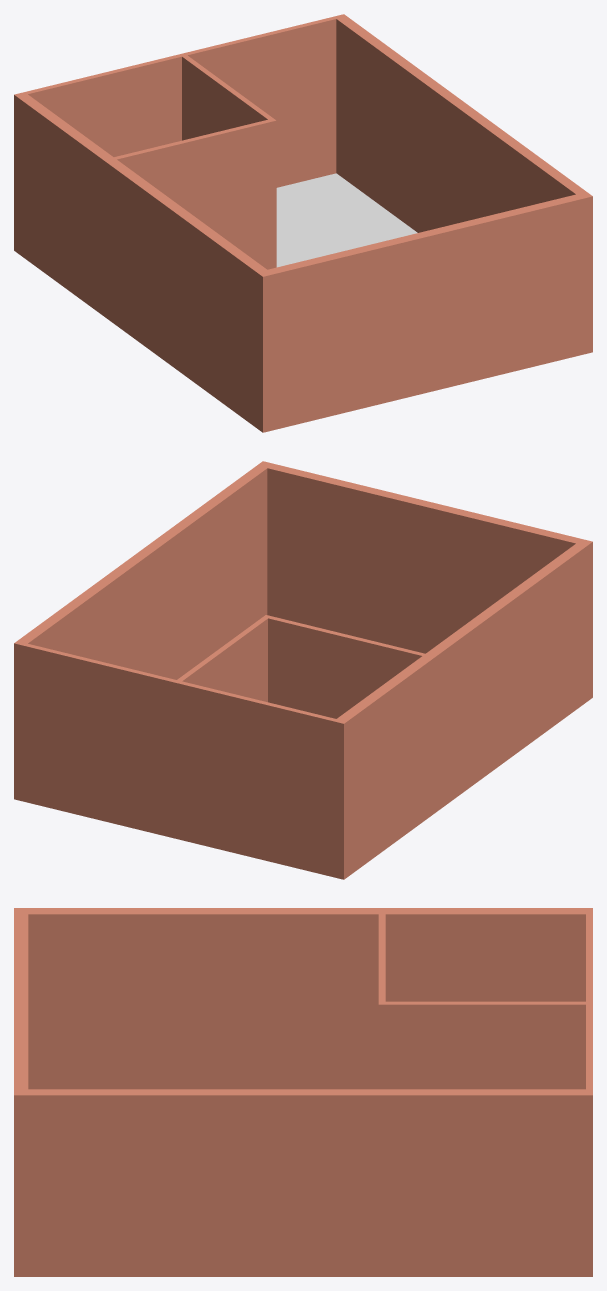
File: testroom.fbx
3 renders of one model, top to bottom at view 1: azimuth 30°, elevation 25°; view 2: azimuth 150°, elevation 25°; view 3: azimuth 270°, elevation 25°, orthographic. The views are drawn at different scales.
Visible parts, largest first — view 1: Cube, room_floor; view 2: Cube; view 3: Cube.
Boxes of the visible parts, x1,y1,x2,y2 form: Cube: (14, 14, 592, 432); room_floor: (276, 173, 417, 267); Cube: (14, 461, 592, 879); Cube: (14, 908, 592, 1276).
Bounding box in the file's own units: 620 × 280 × 810.
